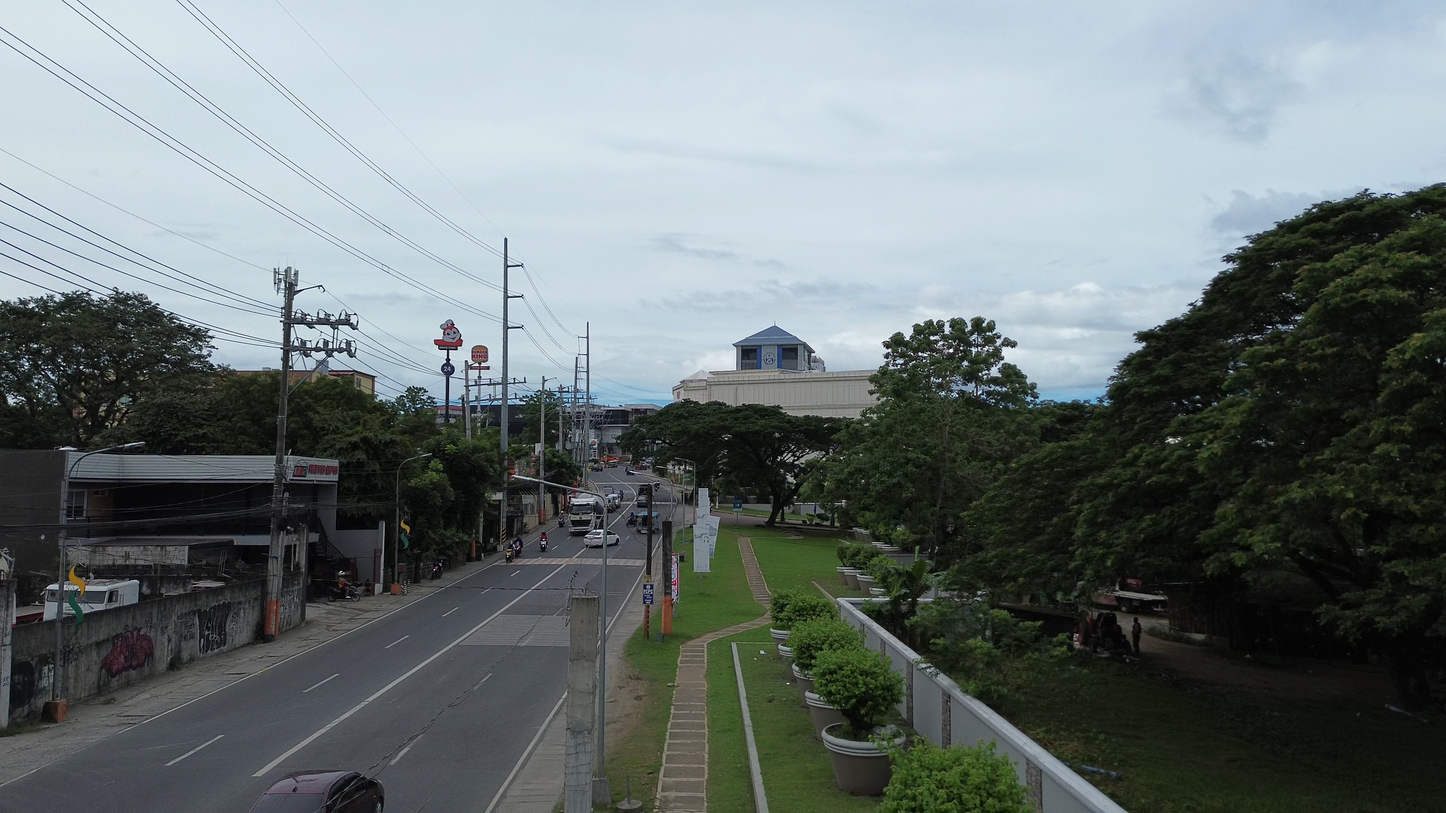car: (251, 770, 384, 813), (583, 529, 620, 547), (625, 467, 636, 475)
motorcycle: (430, 559, 443, 580), (539, 533, 548, 551)
vehicle: (62, 579, 140, 616), (567, 495, 603, 535), (635, 489, 650, 507), (625, 467, 636, 475)
